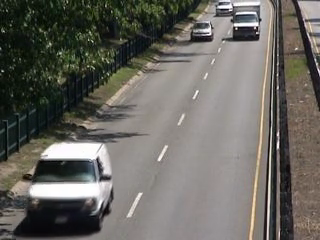car: (190, 19, 215, 42), (214, 1, 233, 18)
truck: (20, 141, 115, 236), (231, 1, 263, 42)
